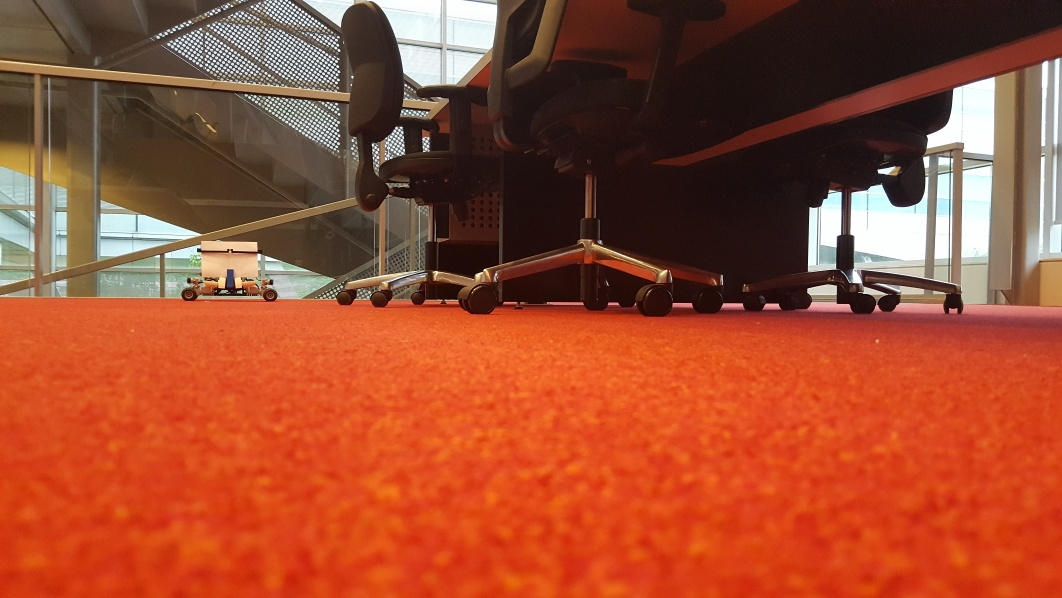car: (179, 238, 280, 306)
